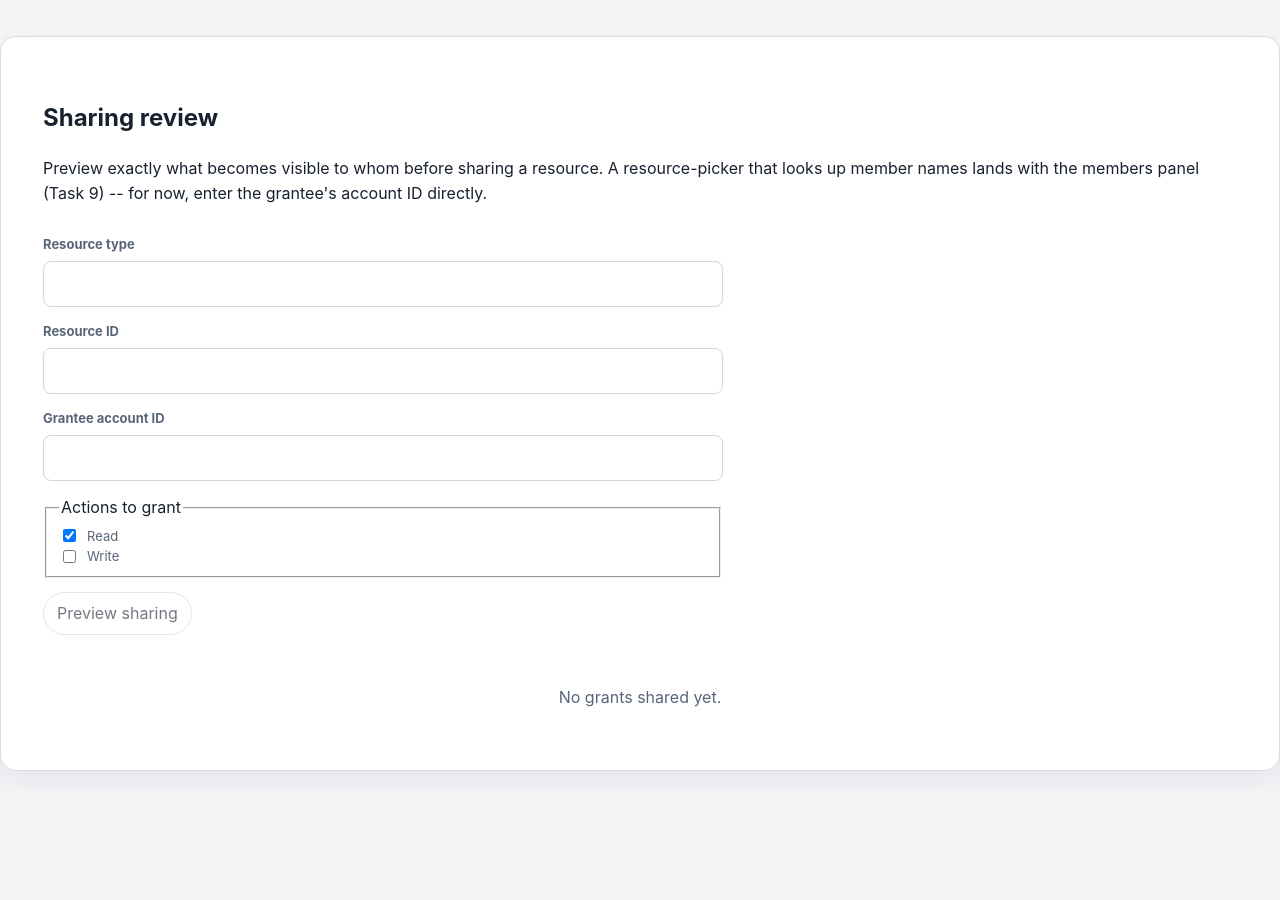
Test: SharingReview › previews a narrowing grant and warns how many members lose default access
Expected: the text "No grants shared yet." is shown, x1=559 y1=687 x2=721 y2=707
Step 1. Type "incidents" into the field labelled "Resource type" → coordinates (383, 284), box x1=43 y1=261 x2=723 y2=307
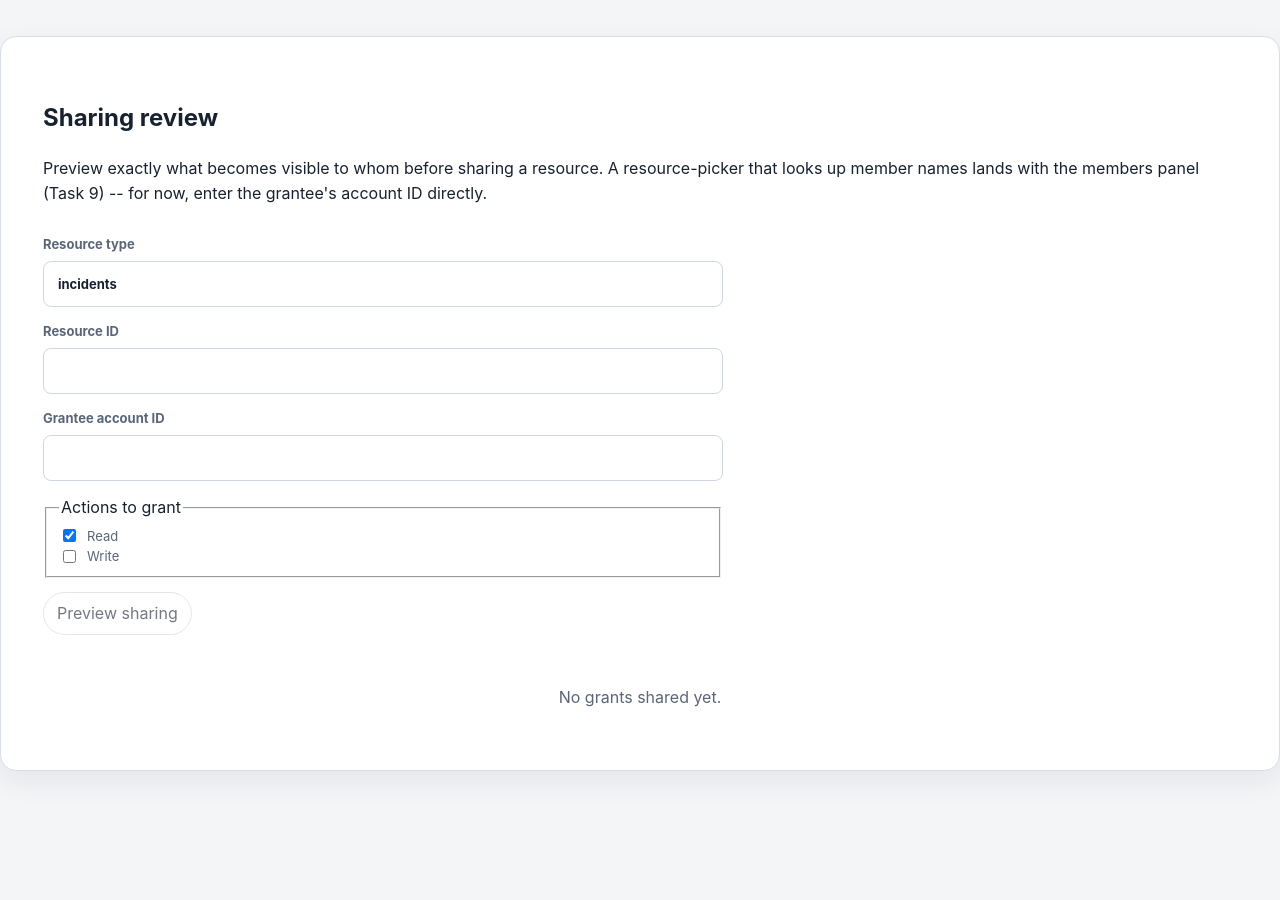
Step 2. Type "incident-1" into the field labelled "Resource ID" → coordinates (383, 371), box x1=43 y1=348 x2=723 y2=394
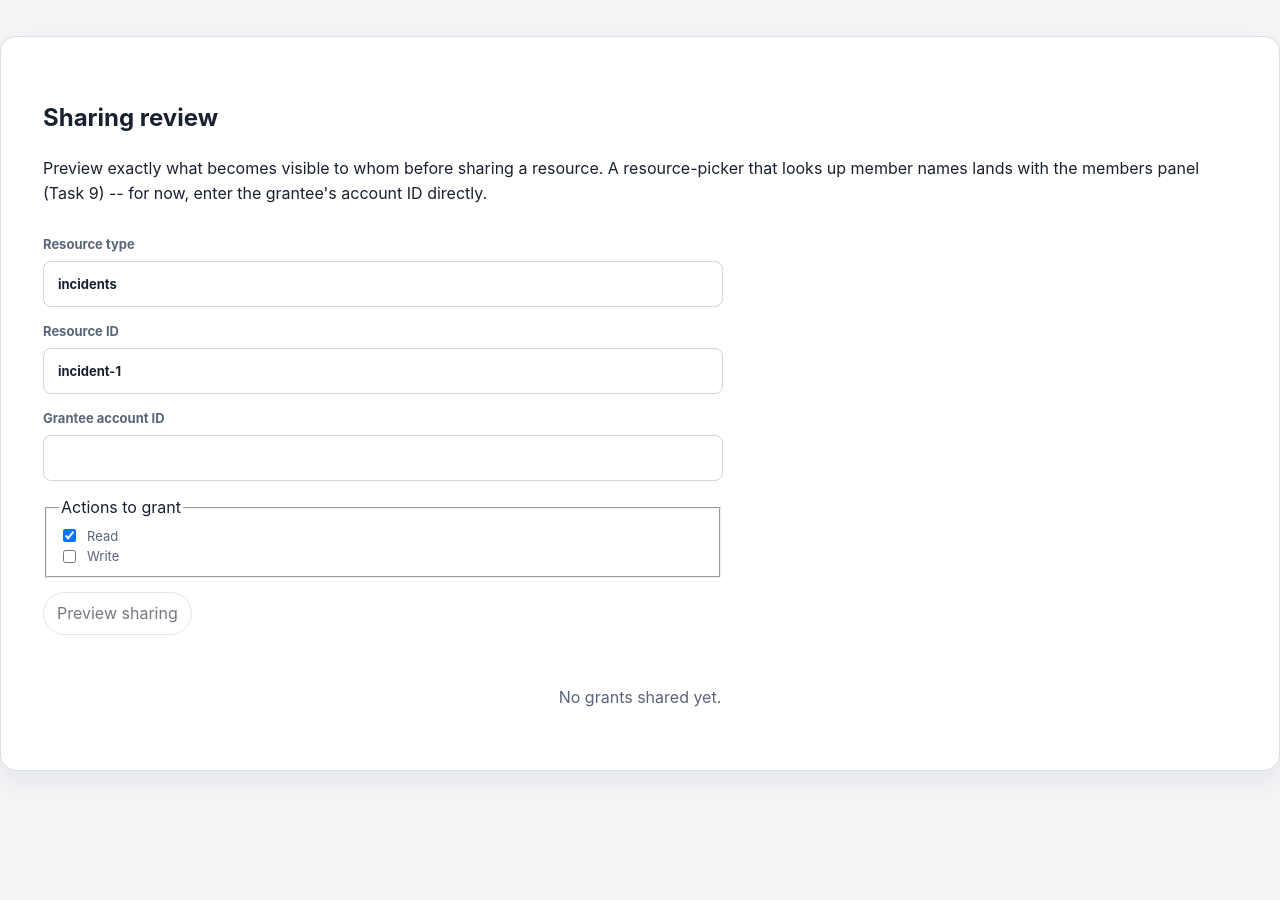
Step 3. Type "account-2" into the field labelled "Grantee account ID" → coordinates (383, 458), box x1=43 y1=435 x2=723 y2=481
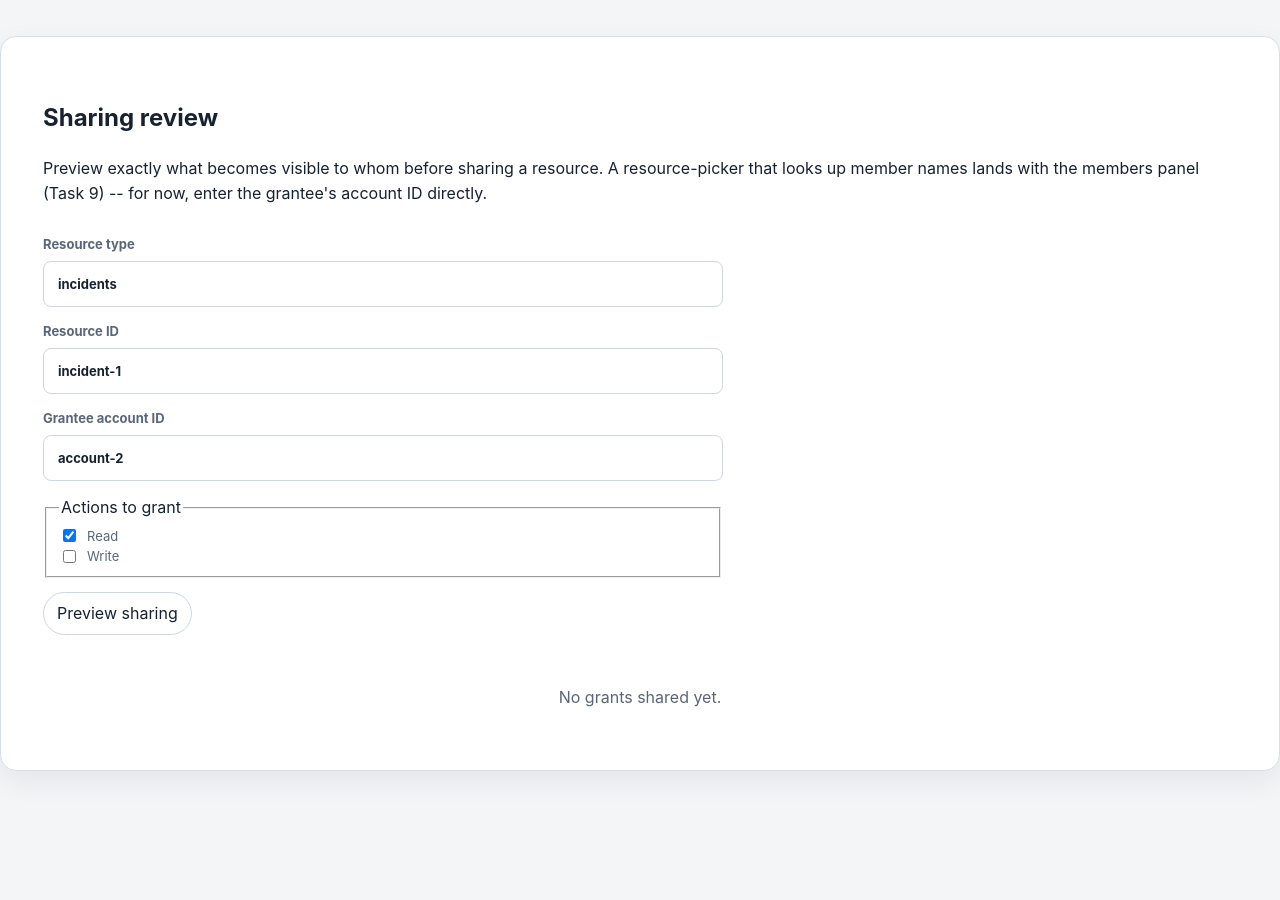
Step 4. Click the button "Preview sharing" → coordinates (117, 614), box x1=43 y1=592 x2=192 y2=635
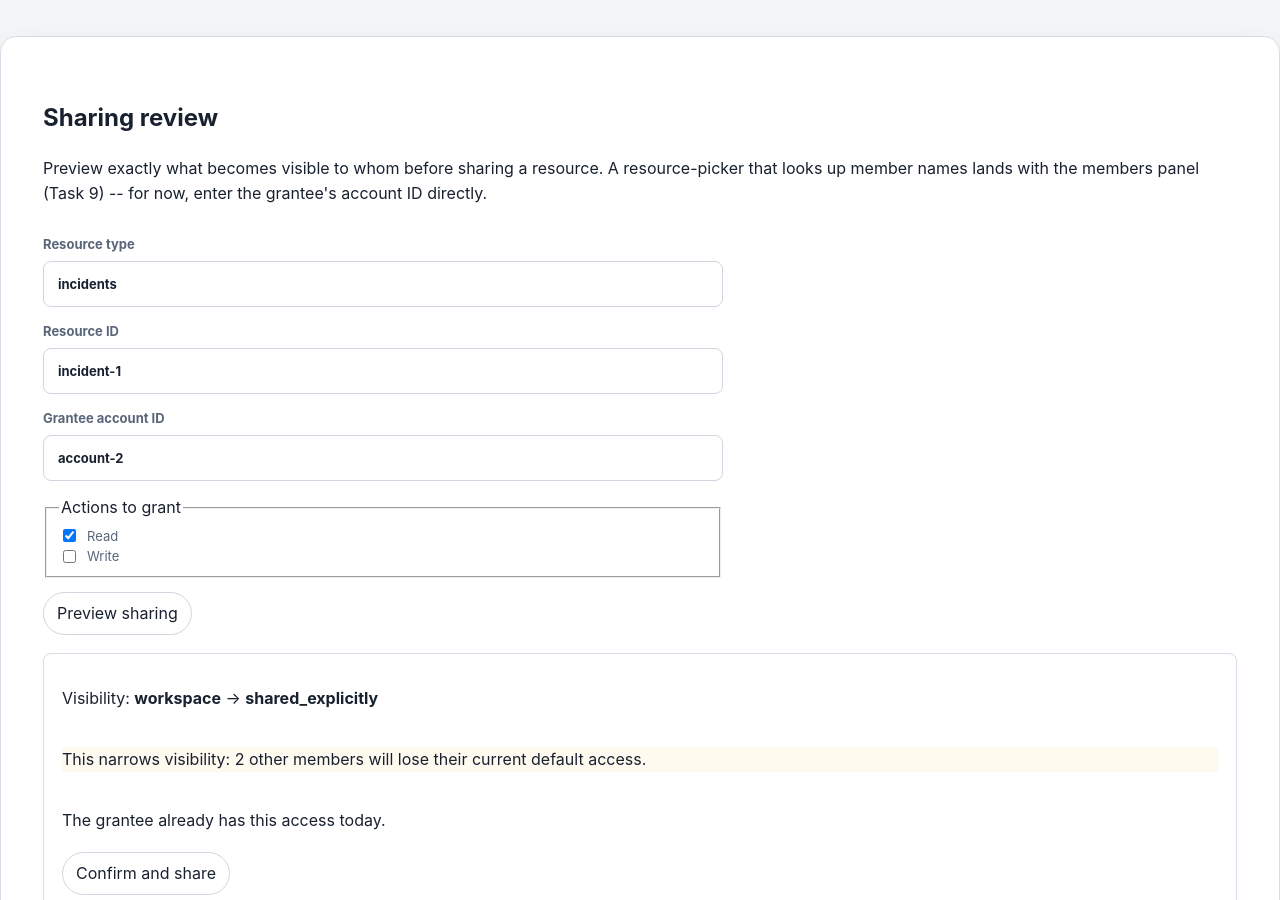
Result: the text "2 other members will lose their current default access" is shown at x1=235 y1=749 x2=646 y2=769
Result: the text "The grantee already has this access today." is shown at x1=62 y1=810 x2=386 y2=830
Result: the button "Confirm and share" is shown at x1=62 y1=852 x2=230 y2=895
